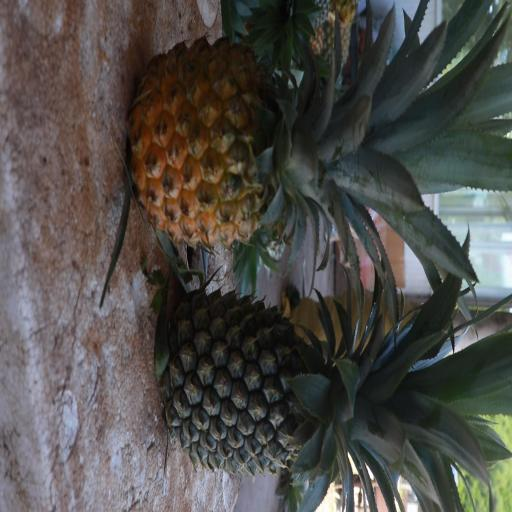Pineapple - v8 v1: (130, 40, 433, 247)
